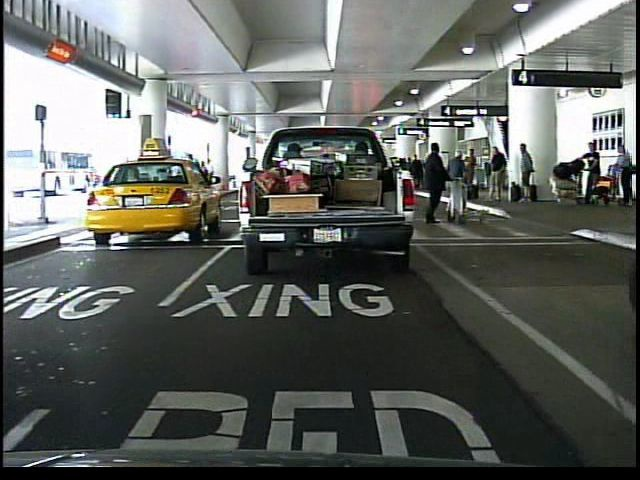person: (418, 141, 451, 227), (445, 146, 470, 221), (613, 140, 638, 212), (583, 140, 603, 186)
